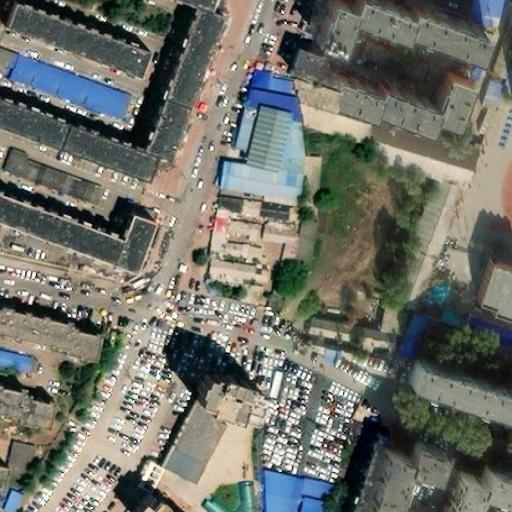building: (300, 100, 464, 181), (12, 13, 155, 89), (299, 62, 467, 124), (0, 146, 107, 208), (402, 353, 512, 413), (350, 436, 433, 512), (164, 411, 235, 499), (169, 18, 228, 121), (237, 98, 306, 184), (65, 135, 160, 193), (436, 461, 512, 512), (107, 206, 157, 273), (222, 173, 304, 213), (199, 384, 265, 433), (301, 312, 391, 345), (150, 113, 192, 172), (471, 257, 512, 317), (267, 246, 299, 320), (206, 268, 265, 302), (458, 311, 512, 343), (412, 296, 463, 325), (210, 248, 264, 275), (265, 222, 318, 249), (2, 435, 37, 475), (264, 481, 308, 512), (252, 81, 294, 107), (0, 346, 37, 374), (290, 247, 315, 283), (301, 489, 340, 512), (469, 69, 493, 104), (372, 299, 399, 326), (0, 483, 25, 512), (232, 224, 258, 243)
